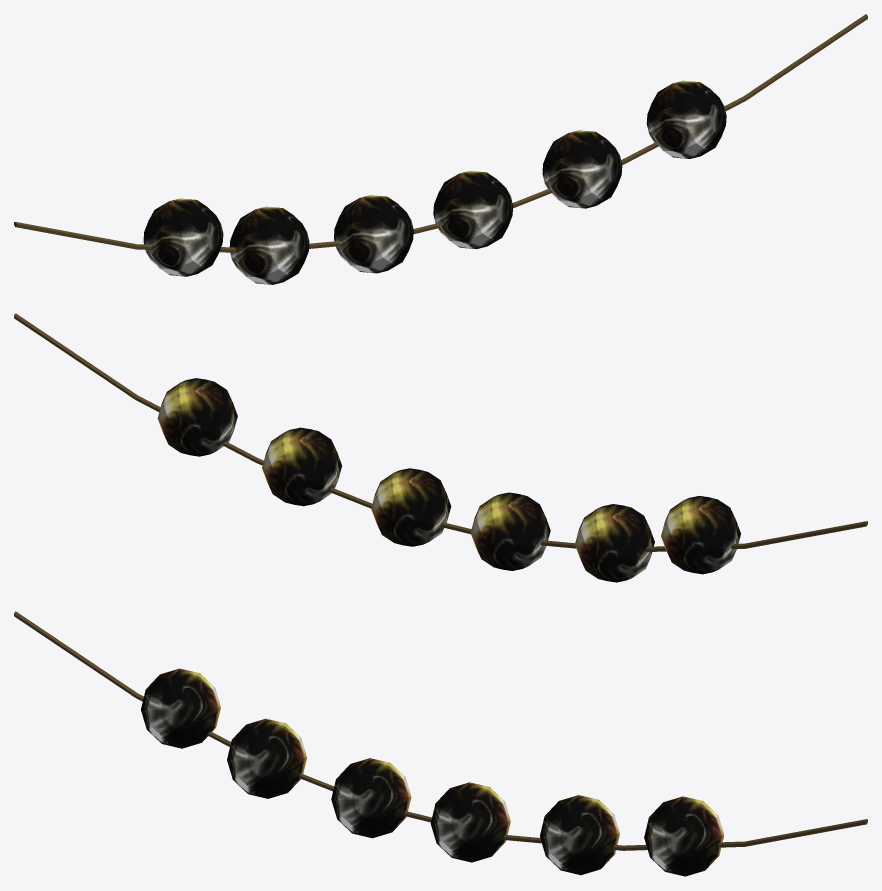
Rendered from NASZYJNIK_CZARNE_PERLY.glb.
The picture shows the model from 3 angles, top to bottom: view 1: azimuth 30°, elevation 25°; view 2: azimuth 150°, elevation 25°; view 3: azimuth 330°, elevation 25°; orthographic projection.
Visible parts, largest first — view 1: NASZYJNIK_CZARNE_PERLY; view 2: NASZYJNIK_CZARNE_PERLY; view 3: NASZYJNIK_CZARNE_PERLY.
Boxes of the visible parts, x1,y1,x2,y2 form: NASZYJNIK_CZARNE_PERLY: (14,14,867,284); NASZYJNIK_CZARNE_PERLY: (14,313,867,582); NASZYJNIK_CZARNE_PERLY: (14,611,867,876).
Bounding box in the file's own units: 0.9604 × 0.1454 × 0.0773.
Materials: 2 (2 with a texture image).
